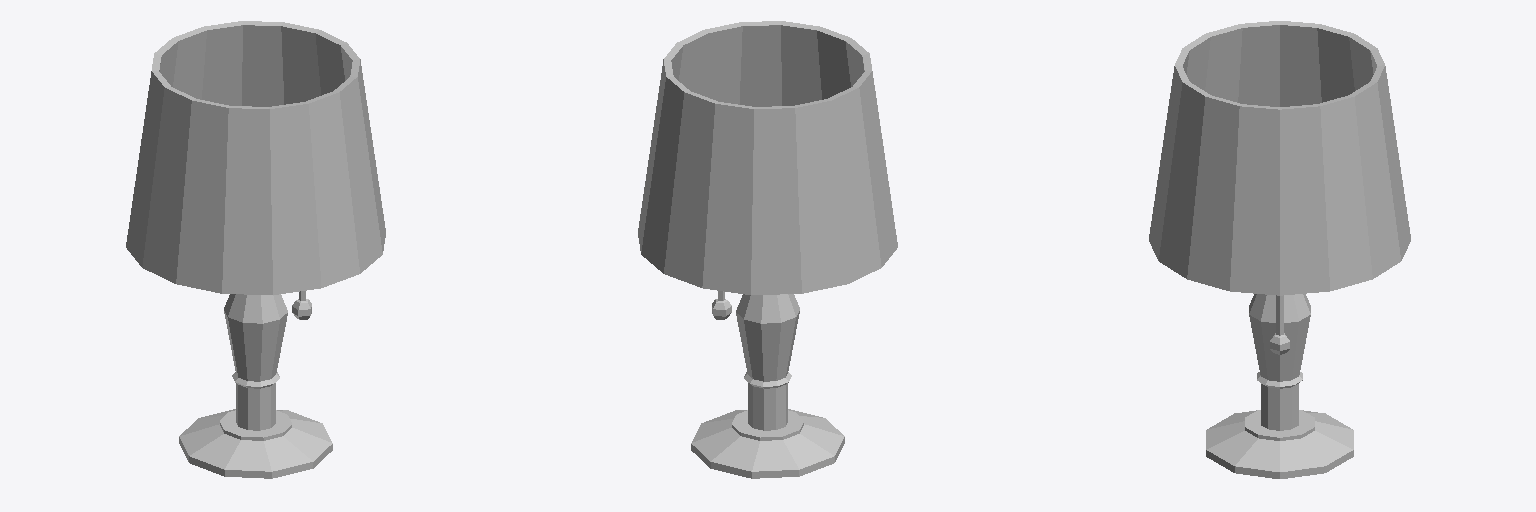
Rendered from Lamp.obj.
3 renders of one model, left to right at view 1: azimuth 30°, elevation 25°; view 2: azimuth 150°, elevation 25°; view 3: azimuth 270°, elevation 25°, orthographic.
Parts seen in each view (by area): view 1: default; view 2: default; view 3: default.
Boxes of the visible parts, <box> form: default: <box>126,21,385,478</box>; default: <box>638,21,897,478</box>; default: <box>1149,21,1410,478</box>.
Bounding box in the file's own units: 34 × 54.5 × 34.